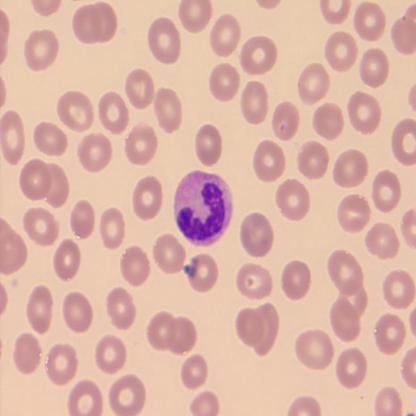Band Neutrophil: (172, 169, 234, 248)
